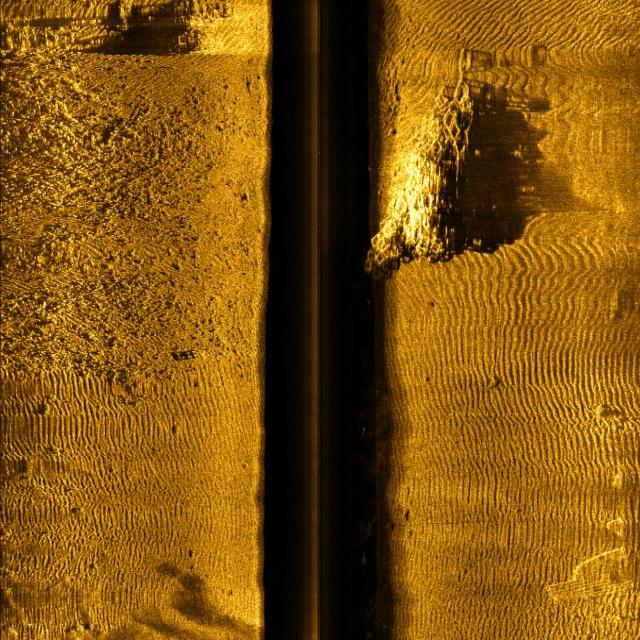artificial reef: (361, 46, 483, 286)
